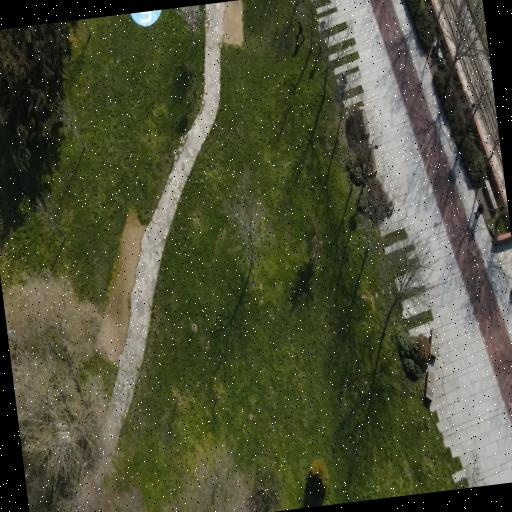UAP: (130, 10, 161, 26)
